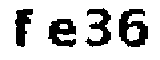3: (83, 4, 111, 52)
6: (118, 4, 150, 52)
e: (43, 14, 79, 49)
f: (9, 5, 36, 50)
